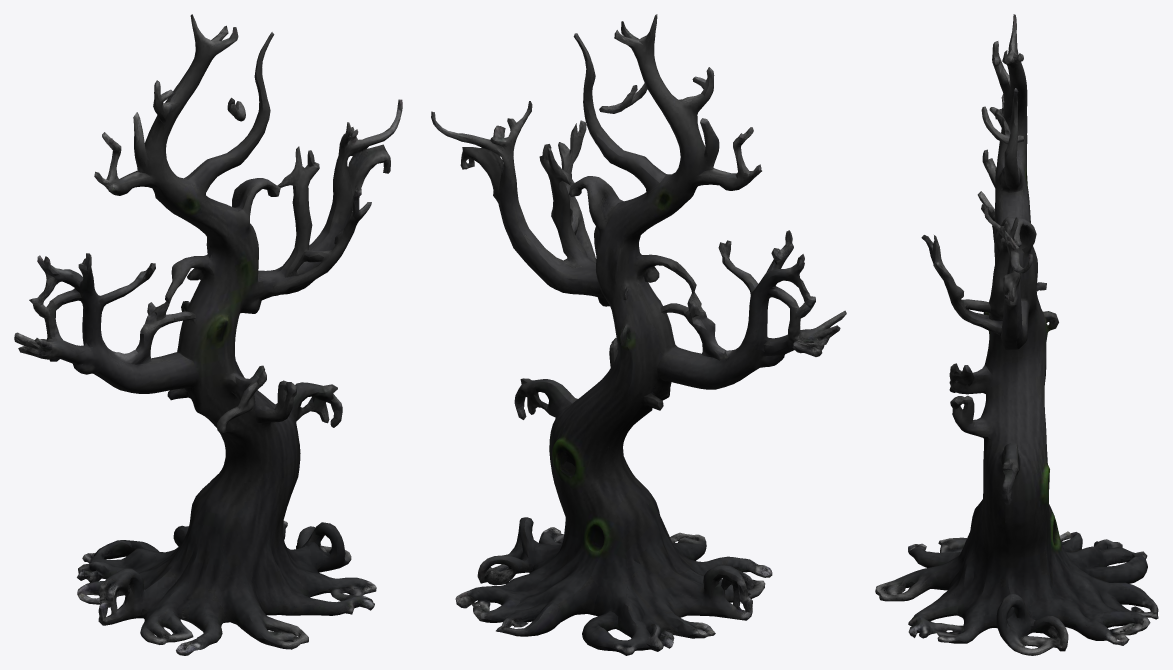
File: scarytree2.glb
The picture shows the model from 3 angles, left to right: view 1: azimuth 30°, elevation 25°; view 2: azimuth 150°, elevation 25°; view 3: azimuth 270°, elevation 25°; orthographic projection. The views are drawn at different scales.
Visible parts, largest first — view 1: mesh; view 2: mesh; view 3: mesh.
Boxes of the visible parts, <box> form: mesh: <box>14,14,402,655</box>; mesh: <box>431,14,846,655</box>; mesh: <box>875,14,1158,655</box>.
Bounding box in the file's own units: 0.7084 × 1 × 0.4533.
Materials: 1 (1 with a texture image).
